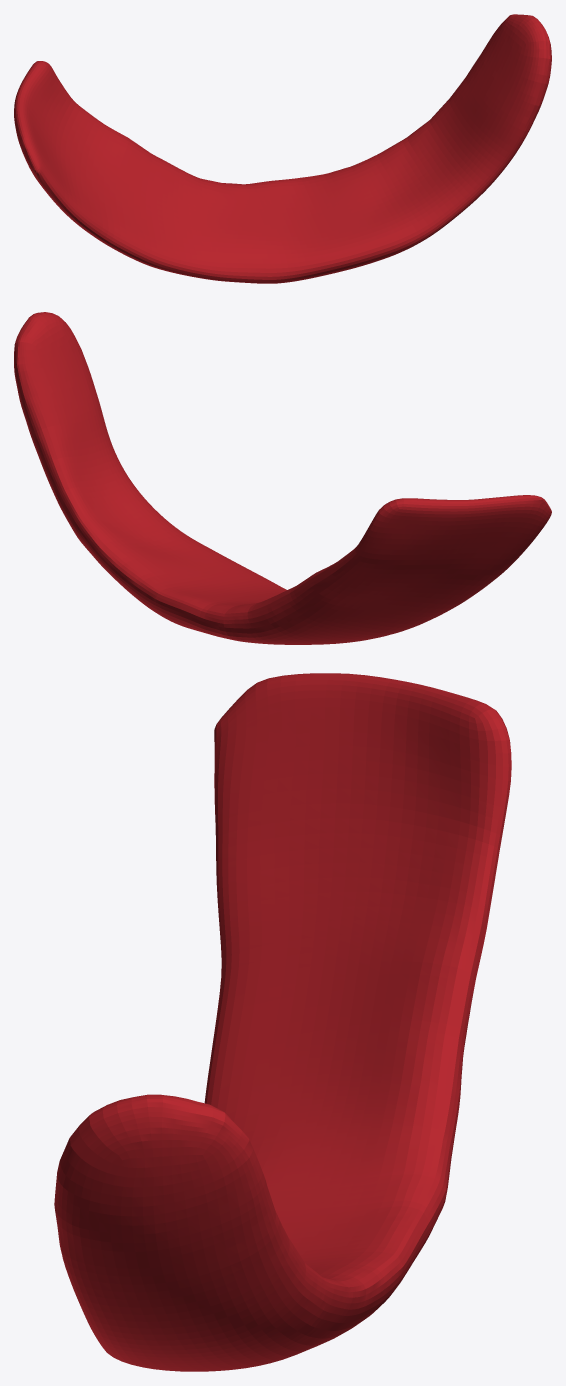
The model's file is frau2-410.glb.
3 views of the same model, one above another, from view 1: azimuth 30°, elevation 25°; view 2: azimuth 150°, elevation 25°; view 3: azimuth 270°, elevation 25° (orthographic). The views are drawn at different scales.
Visible parts, largest first — view 1: VH_F_inferior_oblique_extraocular_muscle_R; view 2: VH_F_inferior_oblique_extraocular_muscle_R; view 3: VH_F_inferior_oblique_extraocular_muscle_R.
Part boxes in pixels (<box>): VH_F_inferior_oblique_extraocular_muscle_R: <box>14,14,551,283</box>; VH_F_inferior_oblique_extraocular_muscle_R: <box>14,312,551,644</box>; VH_F_inferior_oblique_extraocular_muscle_R: <box>54,673,511,1371</box>.
Size of the model in its own units: 0.0315 by 0.0131 by 0.0127.
